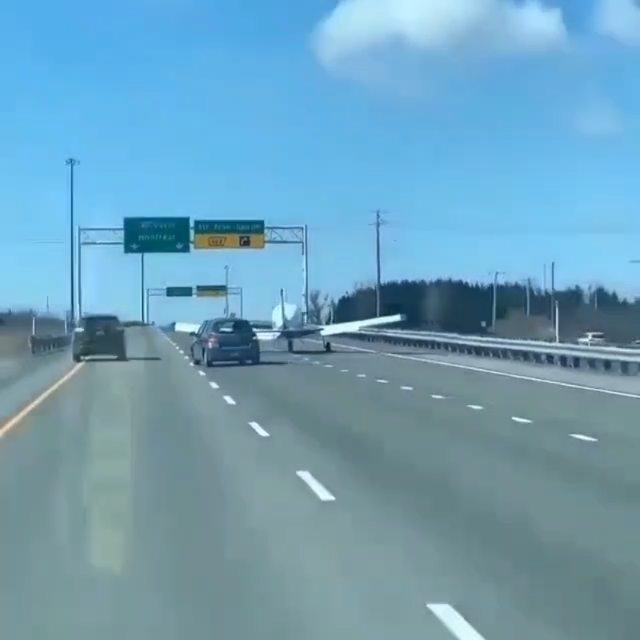car: (184, 313, 260, 366), (61, 312, 133, 364)
plane: (214, 292, 416, 361)
road: (1, 319, 634, 639)
sign: (113, 212, 191, 260), (189, 211, 270, 251)
sky: (1, 1, 631, 292)
vegetation: (358, 291, 640, 353)
